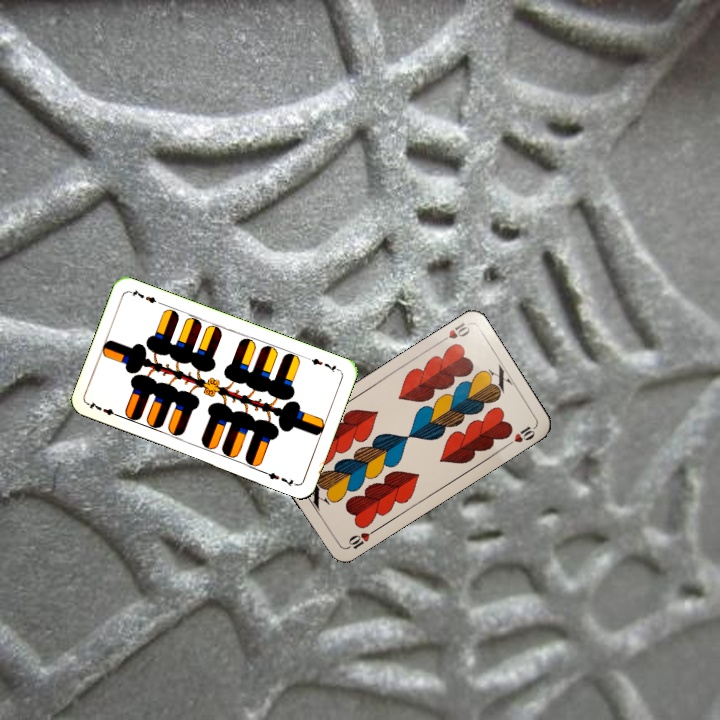E7: (85, 397, 123, 420), (303, 353, 342, 375)
H10: (435, 318, 473, 346), (342, 525, 379, 552)
